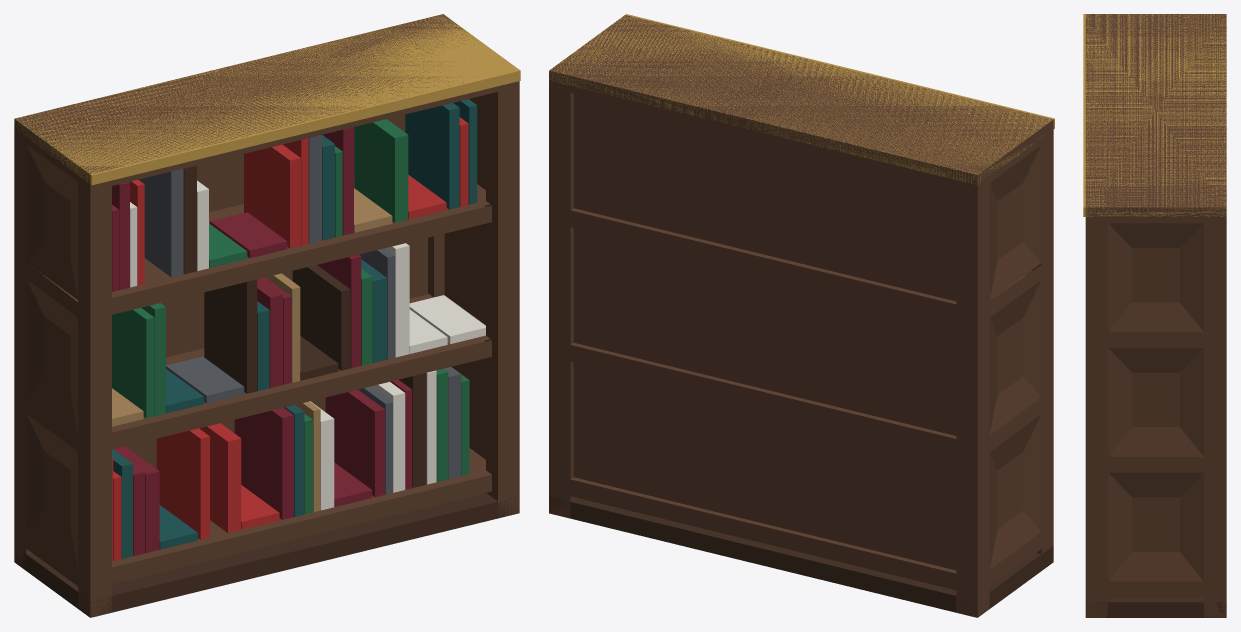
The model's file is bookcaseClosedWide.glb.
3 renders of one model, left to right at view 1: azimuth 30°, elevation 25°; view 2: azimuth 150°, elevation 25°; view 3: azimuth 270°, elevation 25°, orthographic. The views are drawn at different scales.
Parts seen in each view (by area): view 1: bookcaseClosedWide(Clone); view 2: bookcaseClosedWide(Clone); view 3: bookcaseClosedWide(Clone).
Boxes of the visible parts, x1,y1,x2,y2 form: bookcaseClosedWide(Clone): (14,14,520,617); bookcaseClosedWide(Clone): (549,14,1054,617); bookcaseClosedWide(Clone): (1083,14,1226,617).
Bounding box in the file's own units: 0.8 × 0.79 × 0.25.
